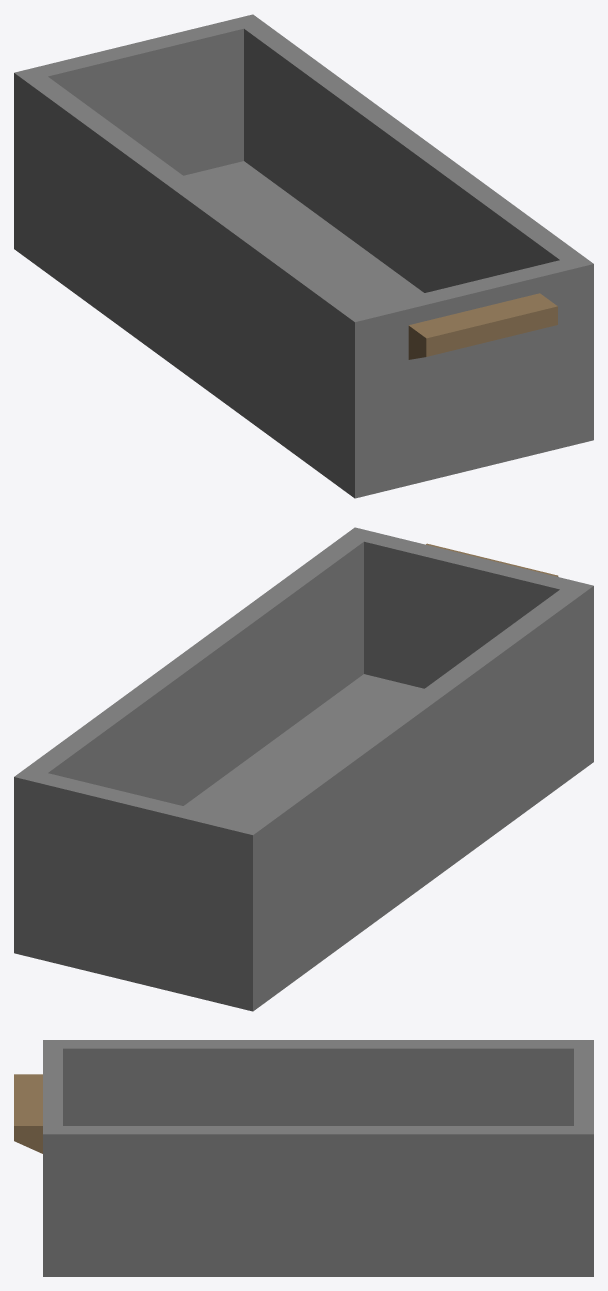
File: FileCabinet_Small_Drawer_A.fbx
3 views of the same model, one above another, from view 1: azimuth 30°, elevation 25°; view 2: azimuth 150°, elevation 25°; view 3: azimuth 270°, elevation 25° (orthographic). The views are drawn at different scales.
Parts seen in each view (by area): view 1: FileCabinet_Small_Drawer_A; view 2: FileCabinet_Small_Drawer_A; view 3: FileCabinet_Small_Drawer_A.
Part boxes in pixels (x1,y1,x2,y2): FileCabinet_Small_Drawer_A: (14, 14, 593, 498); FileCabinet_Small_Drawer_A: (14, 527, 593, 1011); FileCabinet_Small_Drawer_A: (14, 1040, 593, 1276).
Size of the model in its own units: 22.45 by 15.82 by 58.36.
